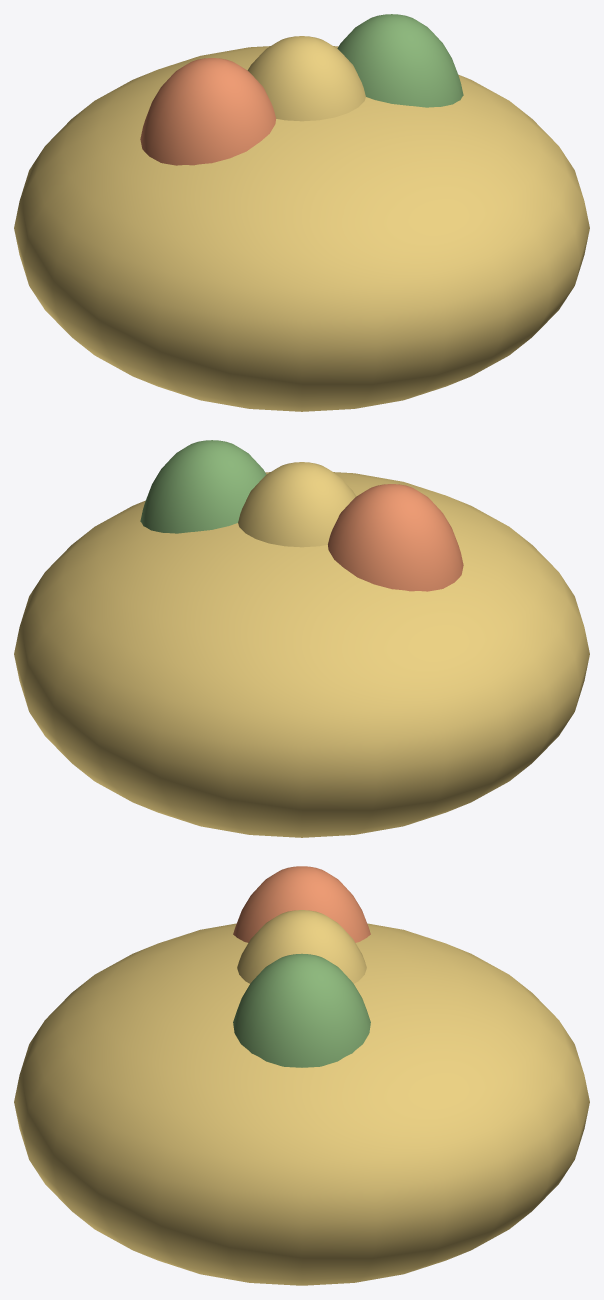
The model's file is fruit-bowl.glb.
3 views of the same model, one above another, from view 1: azimuth 30°, elevation 25°; view 2: azimuth 150°, elevation 25°; view 3: azimuth 270°, elevation 25° (orthographic).
Parts seen in each view (by area): view 1: bowl, fruit, fruit.002, fruit.001; view 2: bowl, fruit, fruit.002, fruit.001; view 3: bowl, fruit.002, fruit, fruit.001.
Boxes of the visible parts, x1,y1,x2,y2 form: bowl: (14, 46, 589, 411); fruit: (140, 58, 275, 165); fruit.002: (337, 14, 463, 107); fruit.001: (247, 36, 365, 121); bowl: (14, 472, 589, 837); fruit: (328, 484, 463, 591); fruit.002: (140, 440, 266, 533); fruit.001: (238, 462, 356, 547); bowl: (14, 923, 589, 1285); fruit.002: (233, 953, 370, 1067); fruit: (233, 866, 370, 942); fruit.001: (237, 910, 366, 983).
Bounding box in the file's own units: 0.34 × 0.2124 × 0.34.
